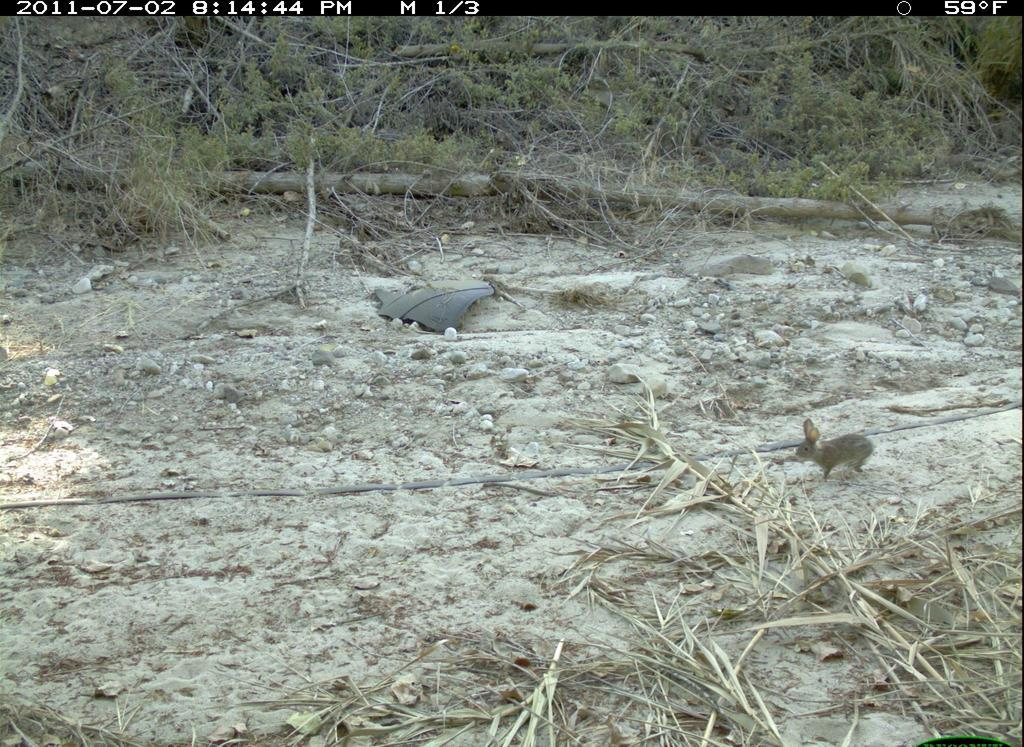rabbit: (789, 411, 879, 490)
